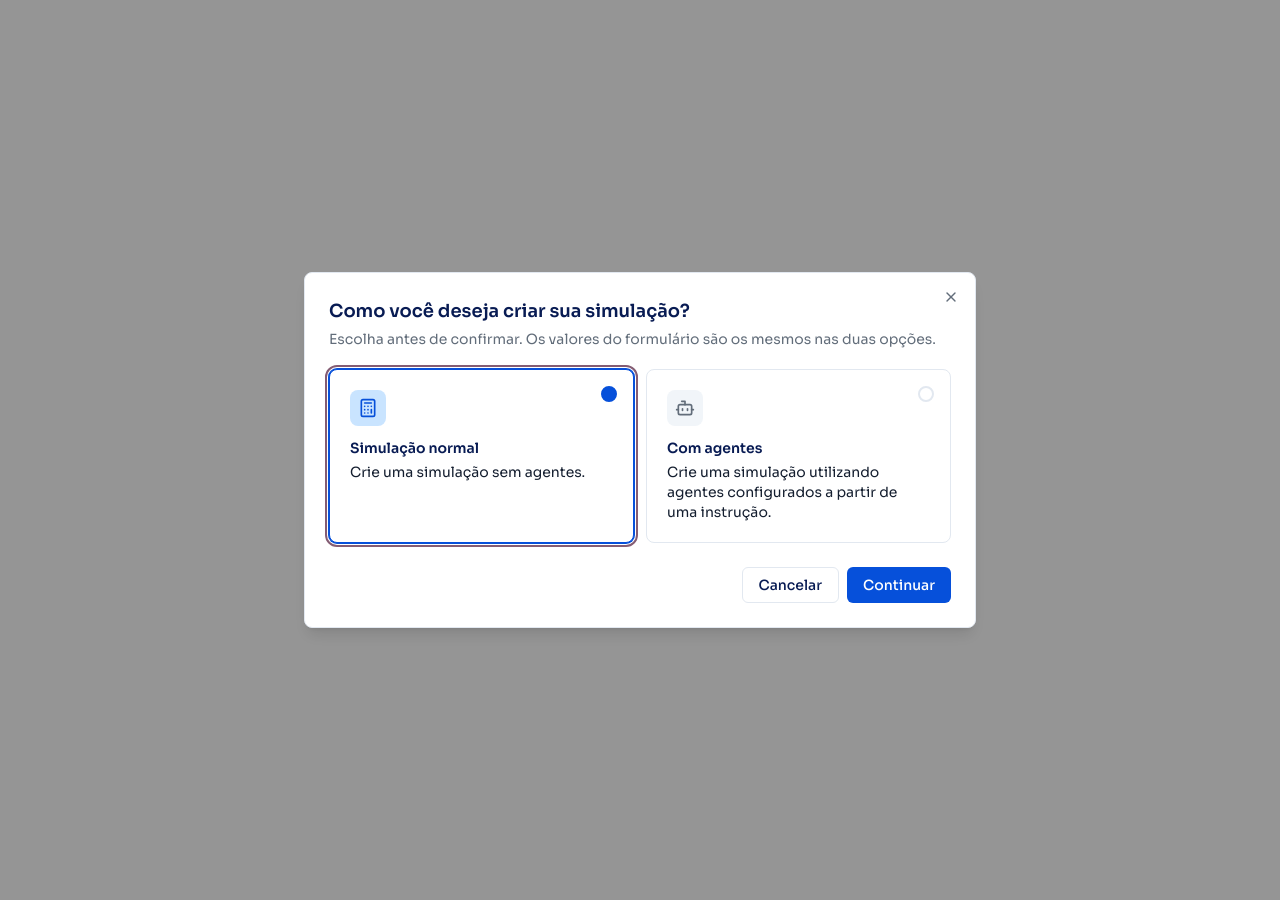
it: creation mode dialog › while creating, locks the buttons
Click the button "Continuar": [899, 585] box x1=847 y1=567 x2=951 y2=603
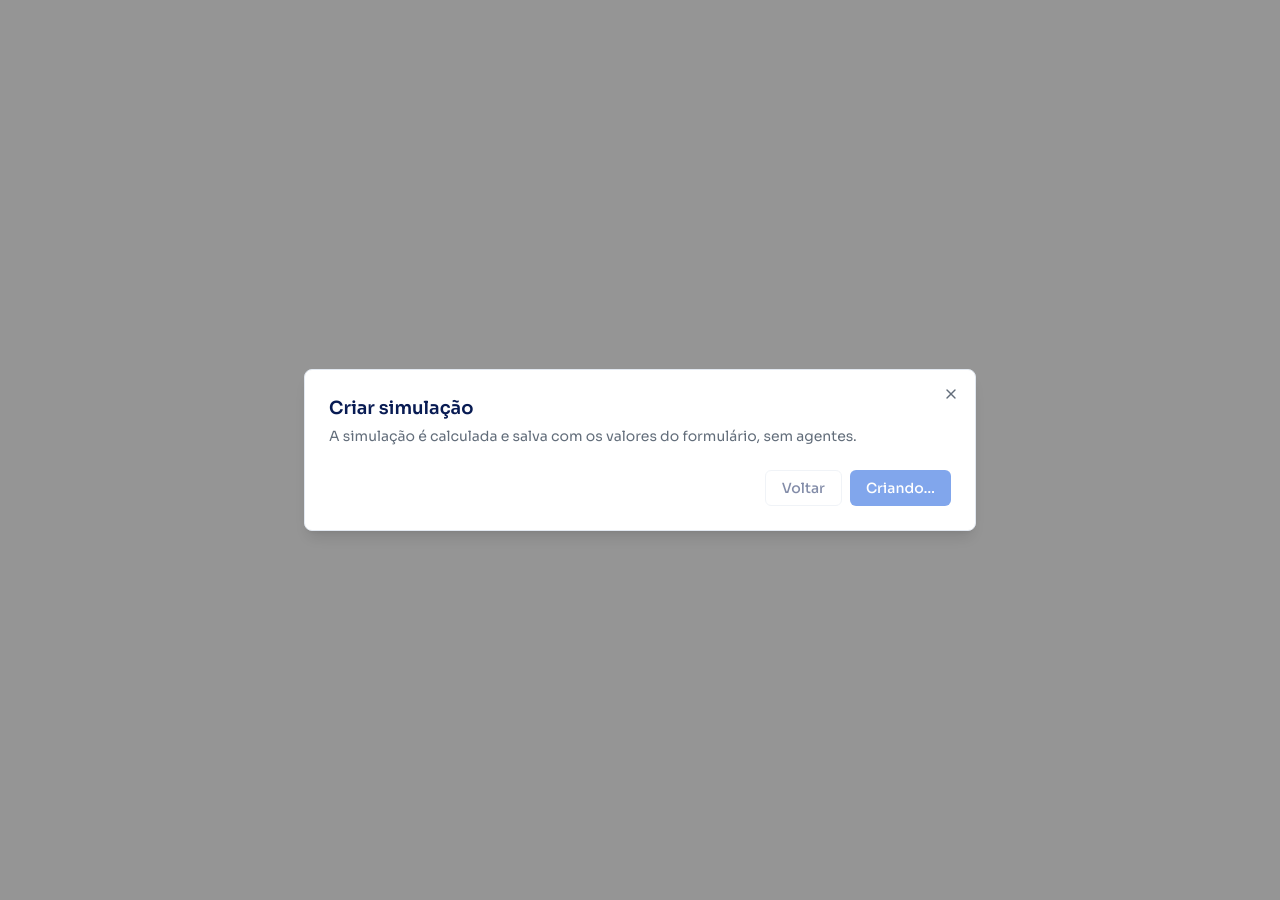
Expected: the button "Criando…" is disabled, x1=850 y1=470 x2=951 y2=506
Expected: the button "Voltar" is disabled, x1=765 y1=470 x2=842 y2=506
